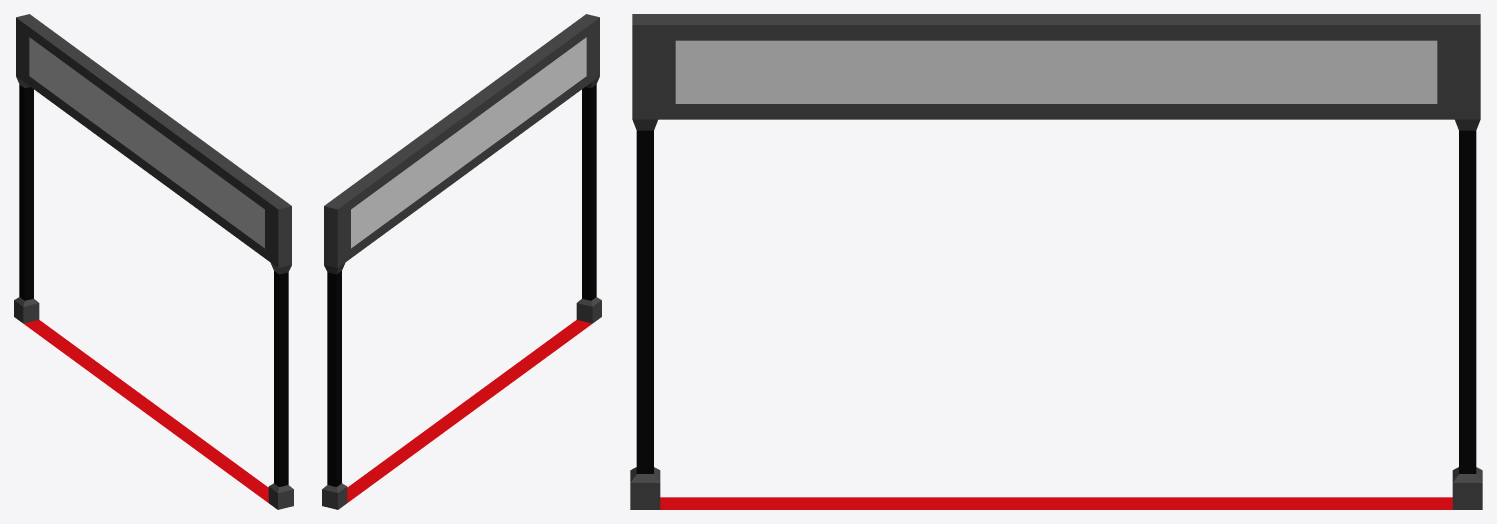
The model's file is Goal.fbx.
3 views of the same model, side by side, from view 1: azimuth 30°, elevation 25°; view 2: azimuth 150°, elevation 25°; view 3: azimuth 270°, elevation 25° (orthographic). The views are drawn at different scales.
Parts seen in each view (by area): view 1: Goal; view 2: Goal; view 3: Goal.
Part boxes in pixels (x1,y1,x2,y2): Goal: [14, 14, 293, 509]; Goal: [322, 14, 601, 509]; Goal: [630, 14, 1482, 509].
Bounding box in the file's own units: 200 × 3574 × 5700.
